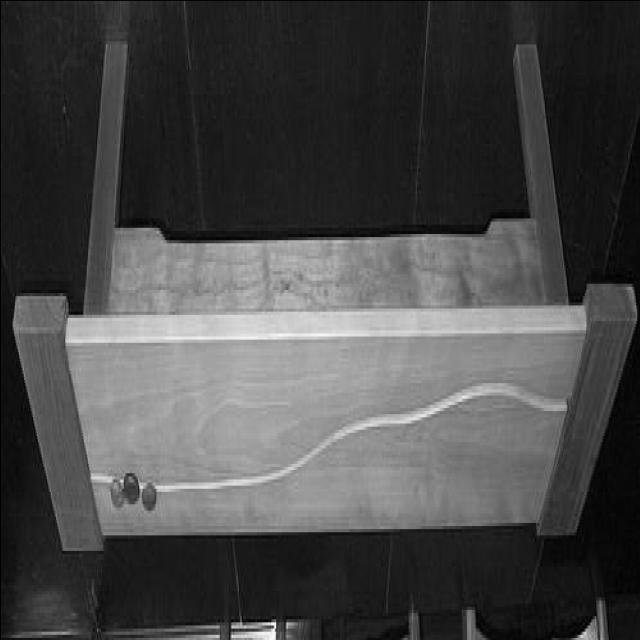table: (13, 46, 636, 554)
